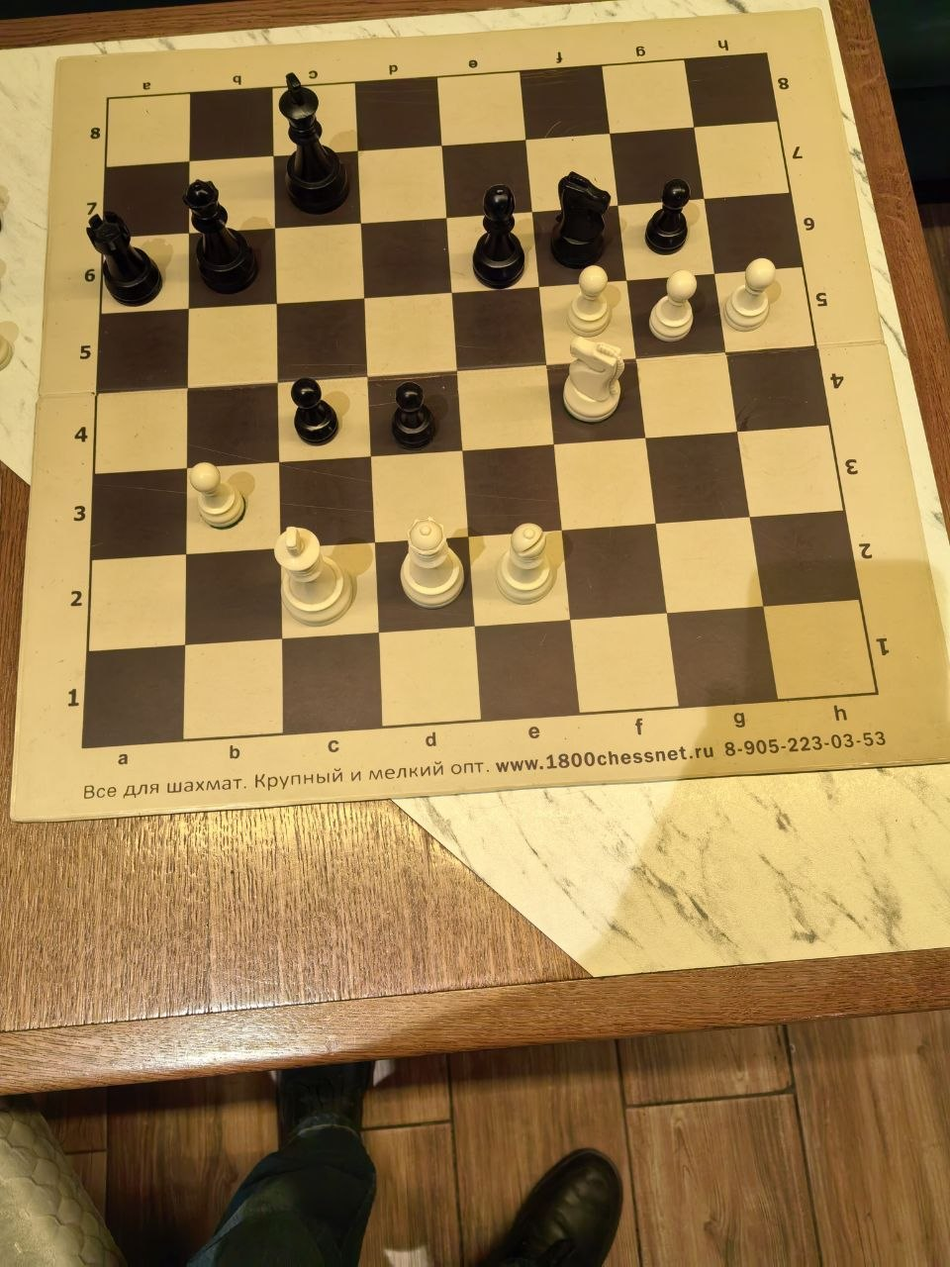black-bishop: (238, 950, 356, 1109)
black-king: (356, 950, 475, 1109)
black-pawn: (475, 950, 594, 1109)
black-queen: (594, 634, 712, 792)
black-rook: (712, 475, 831, 634), (831, 475, 950, 634), (119, 792, 238, 950), (594, 475, 712, 634)
white-bishop: (238, 158, 356, 317)
white-king: (119, 317, 238, 475)
white-knight: (0, 317, 119, 475)
white-pawn: (475, 317, 594, 475)
white-queen: (594, 317, 712, 475)
white-rook: (712, 317, 831, 475), (356, 634, 475, 792), (238, 634, 356, 792)
